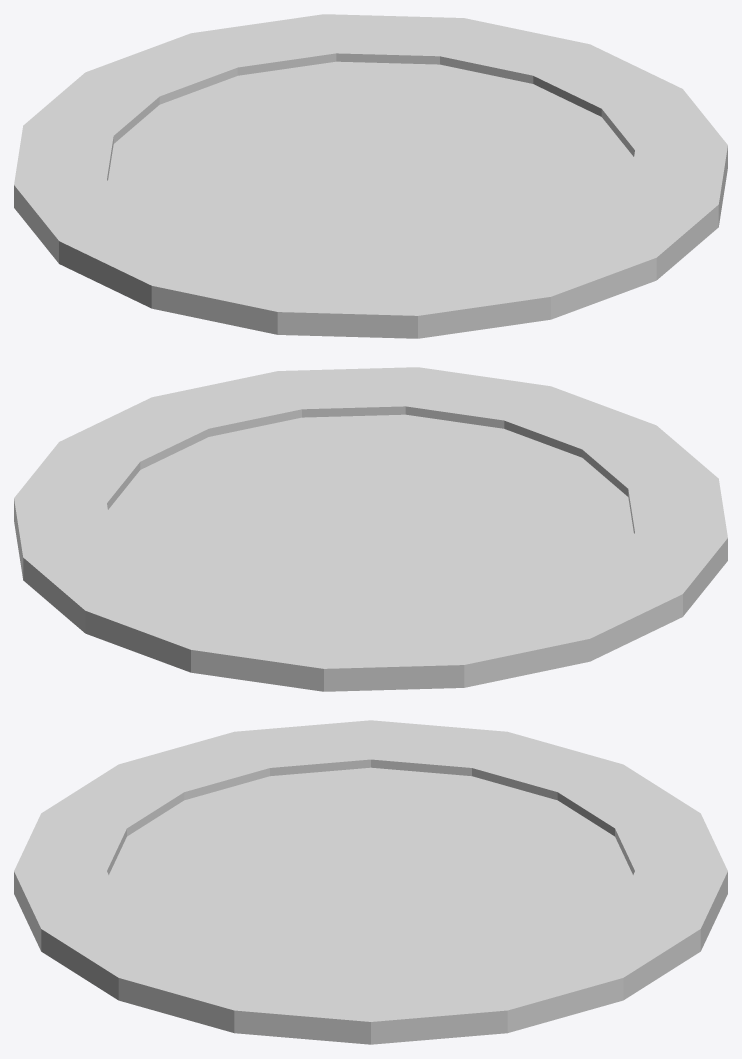
File: Coin_02.fbx
3 views of the same model, one above another, from view 1: azimuth 30°, elevation 25°; view 2: azimuth 150°, elevation 25°; view 3: azimuth 270°, elevation 25° (orthographic).
Visible parts, largest first — view 1: Coin_02; view 2: Coin_02; view 3: Coin_02.
Part boxes in pixels (x1,y1,x2,y2): Coin_02: (14,14,727,338); Coin_02: (14,367,727,691); Coin_02: (14,720,727,1044).
Bounding box in the file's own units: 11.91 × 0.4178 × 11.91.
